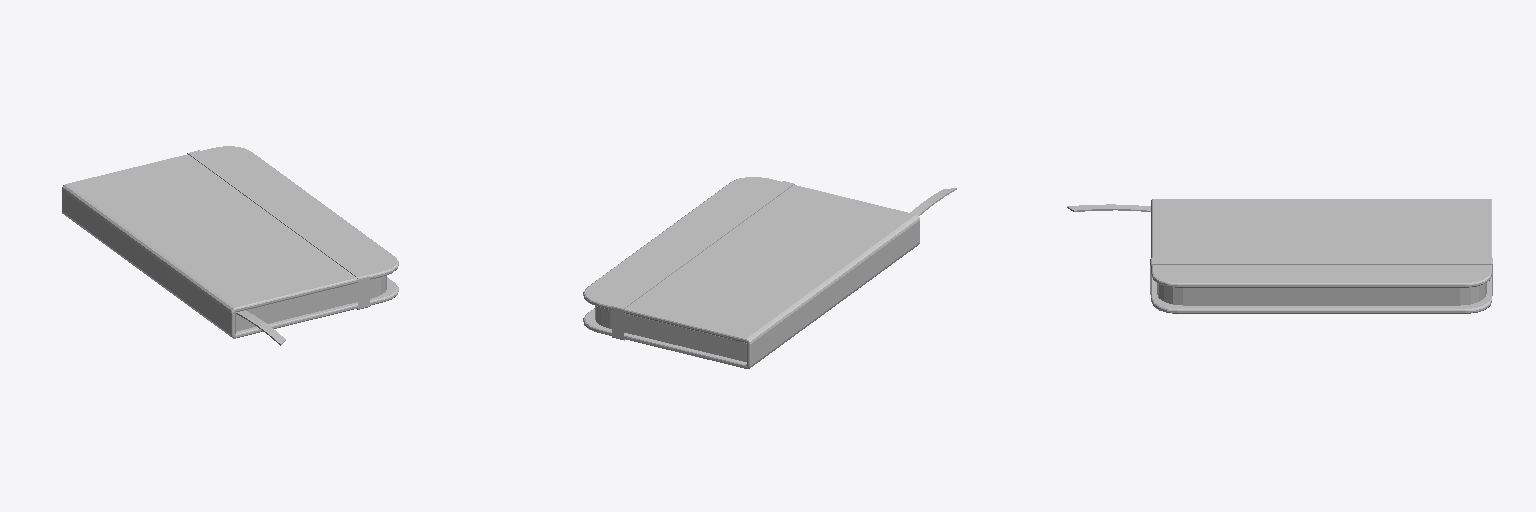
File: libreta.obj
3 views of the same model, side by side, from view 1: azimuth 30°, elevation 25°; view 2: azimuth 150°, elevation 25°; view 3: azimuth 270°, elevation 25° (orthographic).
Parts seen in each view (by area): view 1: Object_4; view 2: Object_4; view 3: Object_4.
Boxes of the visible parts, <box> form: Object_4: <box>62,146,398,345</box>; Object_4: <box>583,177,956,368</box>; Object_4: <box>1067,199,1492,313</box>.
Size of the model in its own units: 0.2303 by 0.0404 by 0.4795.